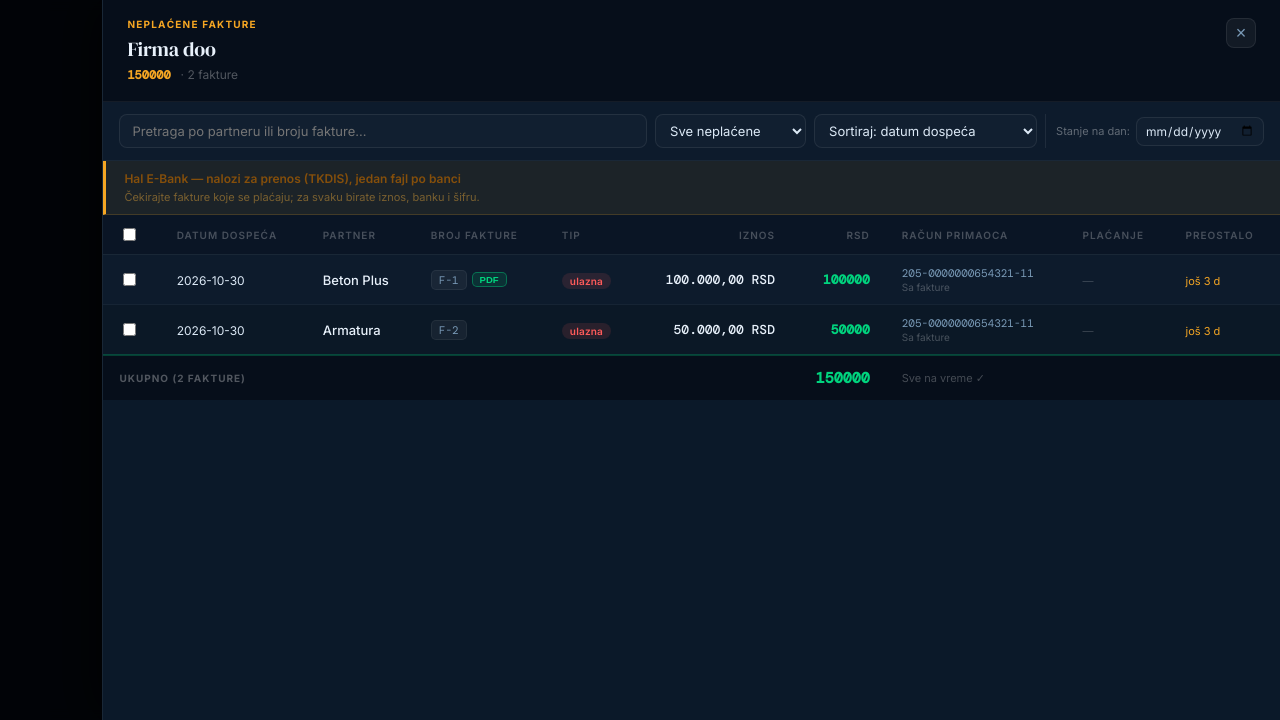
paying unpaid bills › refuses more than is owed, and leaves that line out of the files
Expected: the text "Beton Plus" is shown, [323,272,389,288]
Click the checkbox named "Plati F-1" at x=130, y=280, box [123,273,136,286]
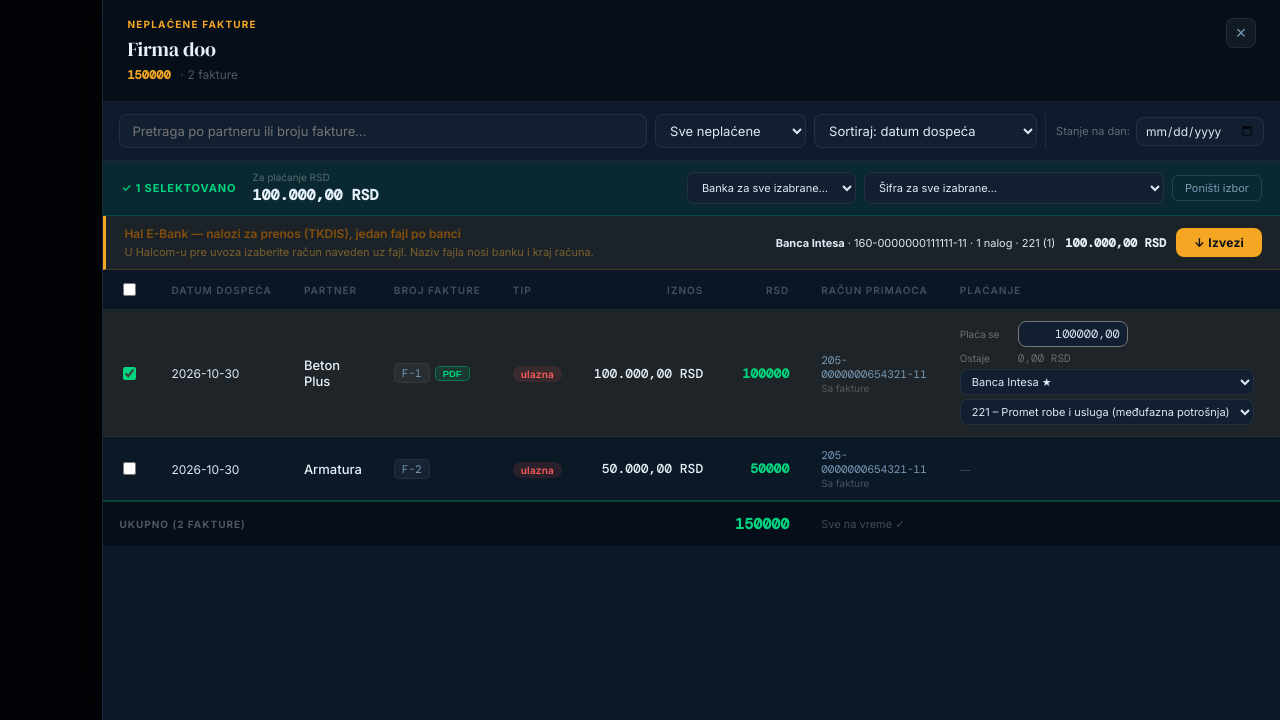
Replace the text in the field named "Iznos za plaćanje F-1" with "150000" at x=1073, y=334, box [1018,321,1128,347]
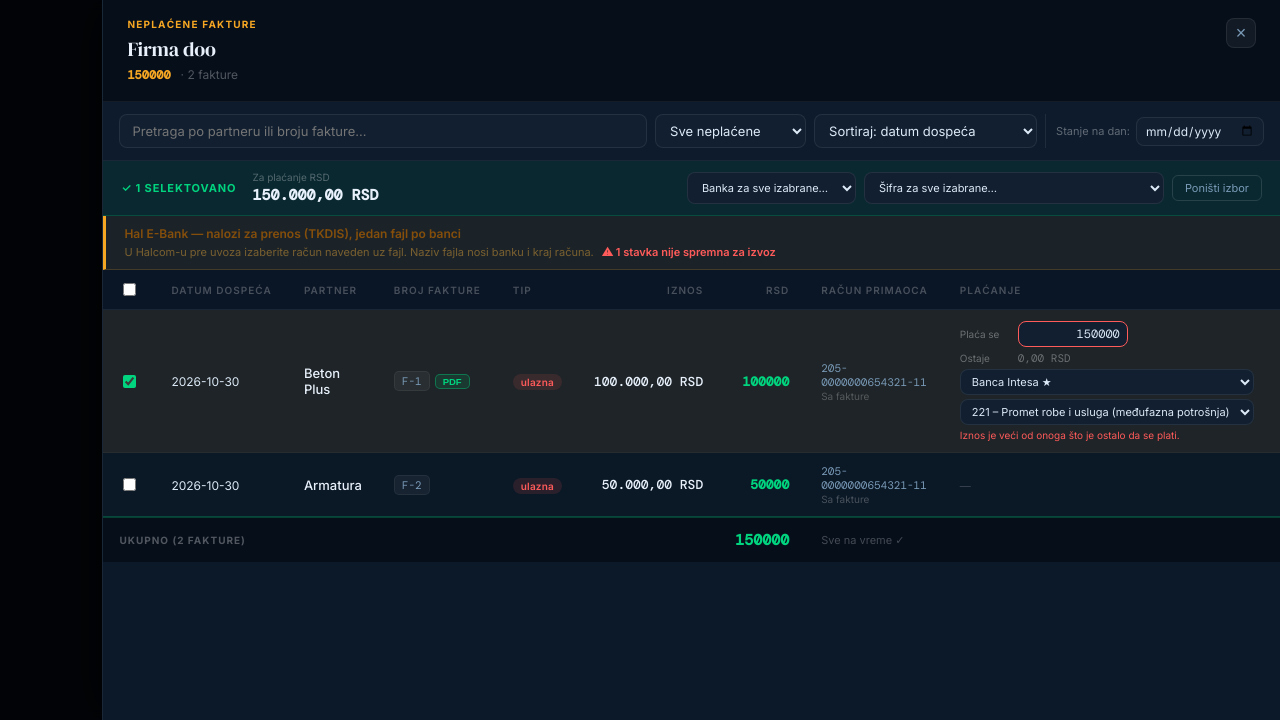
Expected: the message shows "veći od onoga što je ostalo", [960,429,1180,441]
Expected: the button "↓ Izvezi" is gone
